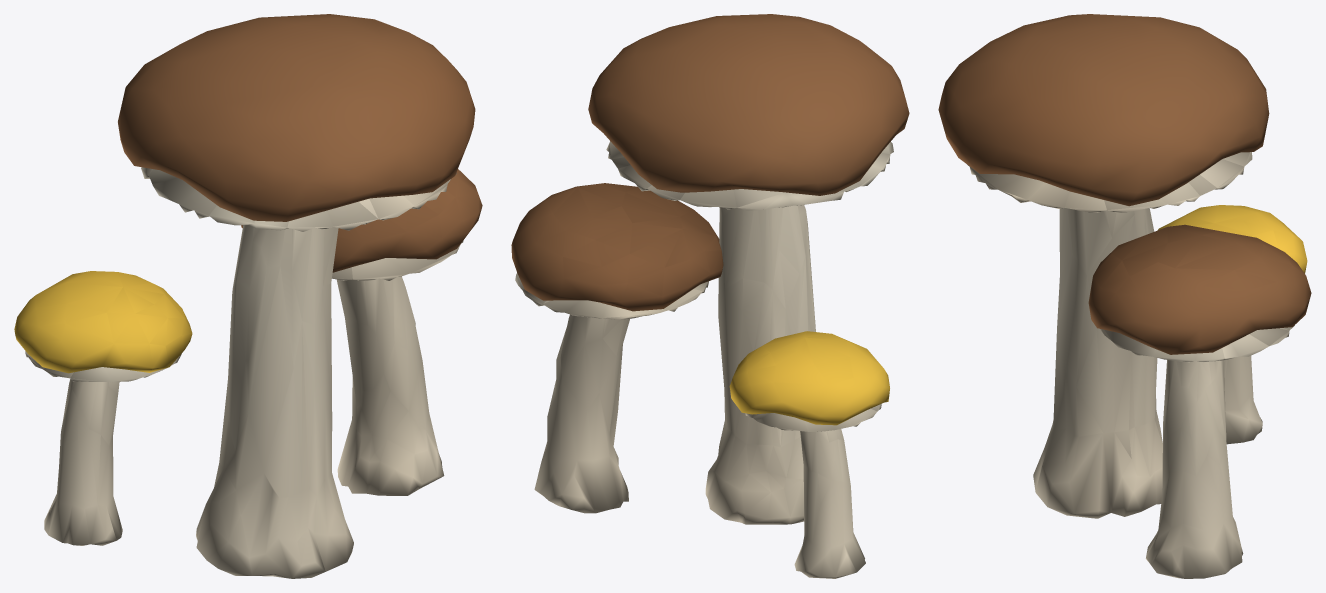
File: glade_mushroom_cluster_lod1.glb
3 renders of one model, left to right at view 1: azimuth 30°, elevation 25°; view 2: azimuth 150°, elevation 25°; view 3: azimuth 270°, elevation 25°, orthographic. The views are drawn at different scales.
Parts seen in each view (by area): view 1: glade_mushroom_cluster.001; view 2: glade_mushroom_cluster.001; view 3: glade_mushroom_cluster.001.
Boxes of the visible parts, bbox=[...] form: glade_mushroom_cluster.001: bbox=[14, 14, 482, 578]; glade_mushroom_cluster.001: bbox=[511, 14, 909, 578]; glade_mushroom_cluster.001: bbox=[938, 14, 1311, 578].
Size of the model in its own units: 6.05 by 6.98 by 5.06.
